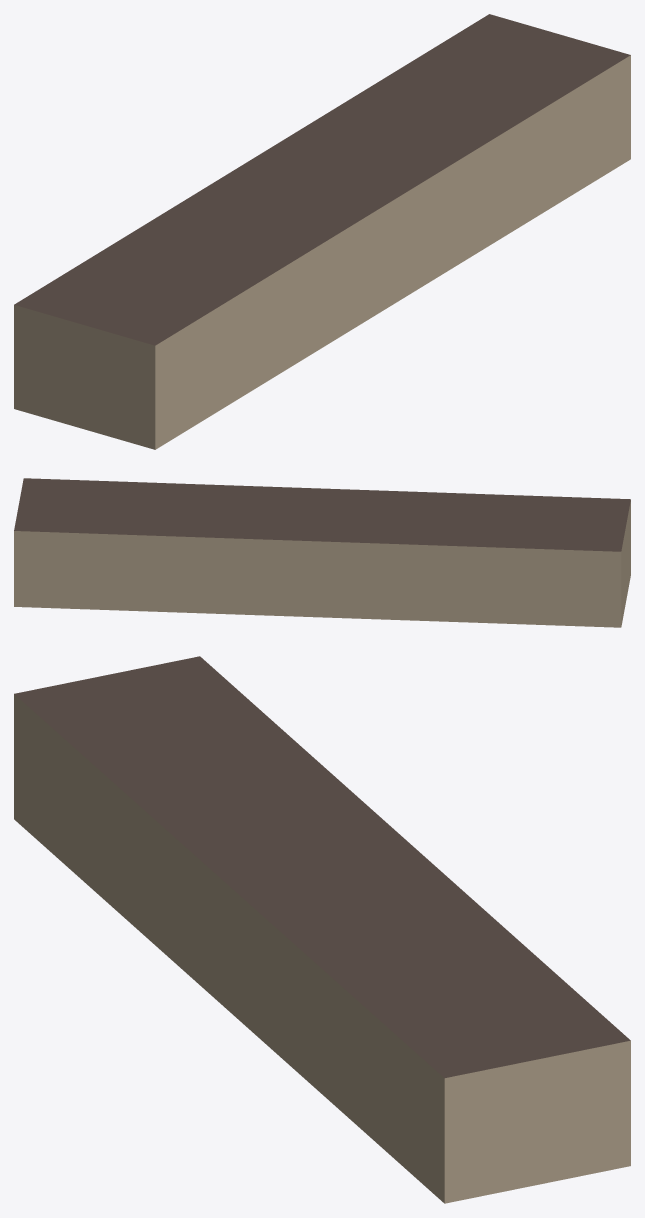
The picture shows the model from 3 angles, top to bottom: view 1: azimuth 30°, elevation 25°; view 2: azimuth 150°, elevation 25°; view 3: azimuth 270°, elevation 25°; orthographic projection. The views are drawn at different scales.
Visible parts, largest first — view 1: HP-w1287059328; view 2: HP-w1287059328; view 3: HP-w1287059328.
Part boxes in pixels (x1,y1,x2,y2): HP-w1287059328: (14, 14, 630, 449); HP-w1287059328: (14, 478, 630, 627); HP-w1287059328: (14, 656, 630, 1203).
Bounding box in the file's own units: 64.93 × 9 × 40.11.
